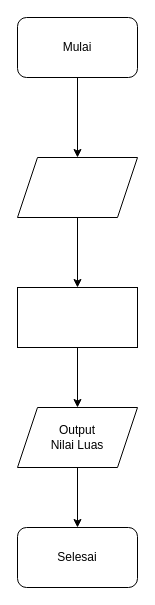
The diagram is 155 pixels wide and 605 high, and some of its shapes have lost their labels. Each missing label, with the box of its shape:
Input Alas dan Tinggi: (16, 156, 138, 218)
L = 1/2 x a x t: (16, 286, 138, 348)
